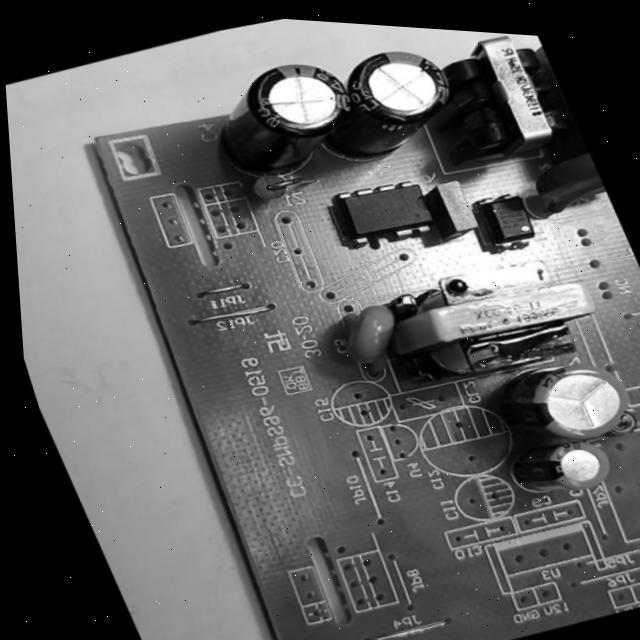Cap1: (482, 345, 640, 466)
Cap2: (504, 427, 622, 508)
Cap3: (326, 32, 471, 169)
Cap4: (194, 42, 372, 191)
MOSFET: (331, 167, 443, 256)
Mov: (518, 148, 611, 220)
Transformer: (373, 227, 625, 414), (434, 29, 573, 166)
